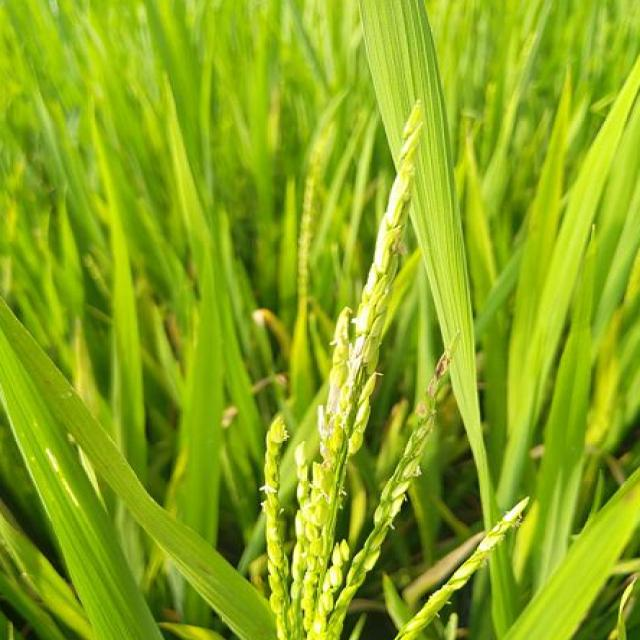Panicle Blight: (291, 116, 427, 616), (404, 344, 453, 458), (471, 503, 530, 559)
